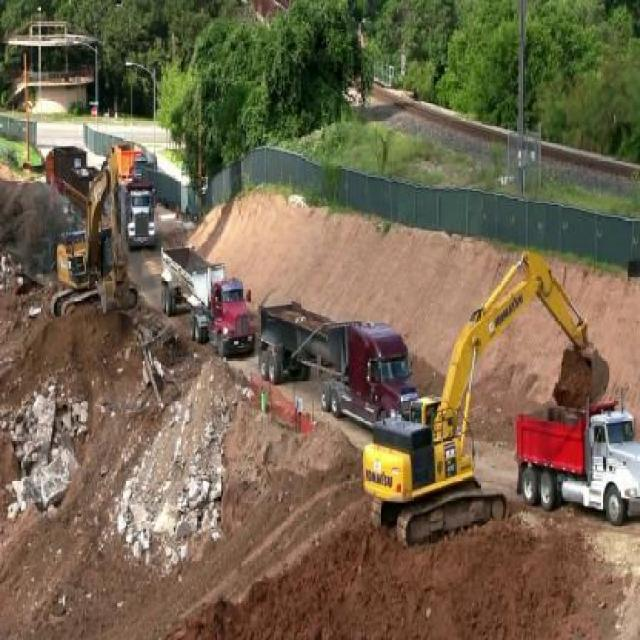Dump Truck: (258, 294, 420, 424), (516, 403, 639, 515), (159, 247, 256, 359), (125, 181, 157, 247)
Excavator: (360, 247, 611, 541), (50, 144, 136, 322)
